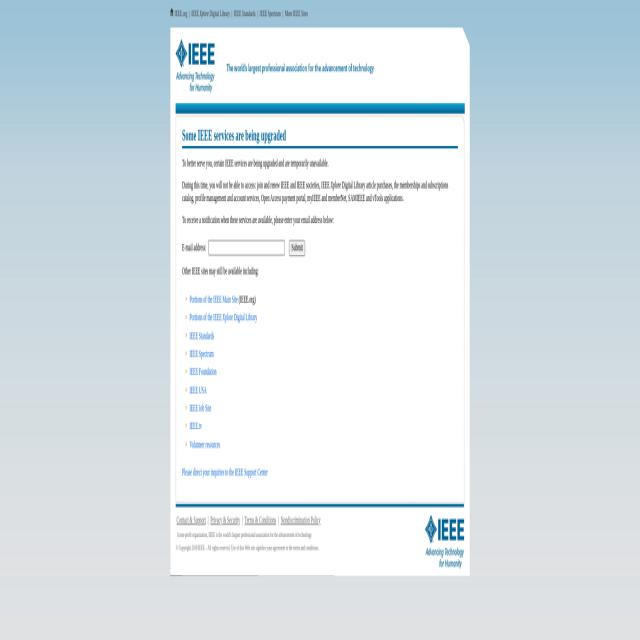button: (173, 30, 219, 99), (422, 511, 467, 573), (289, 240, 305, 256), (170, 8, 175, 17)
field: (208, 240, 285, 256)
